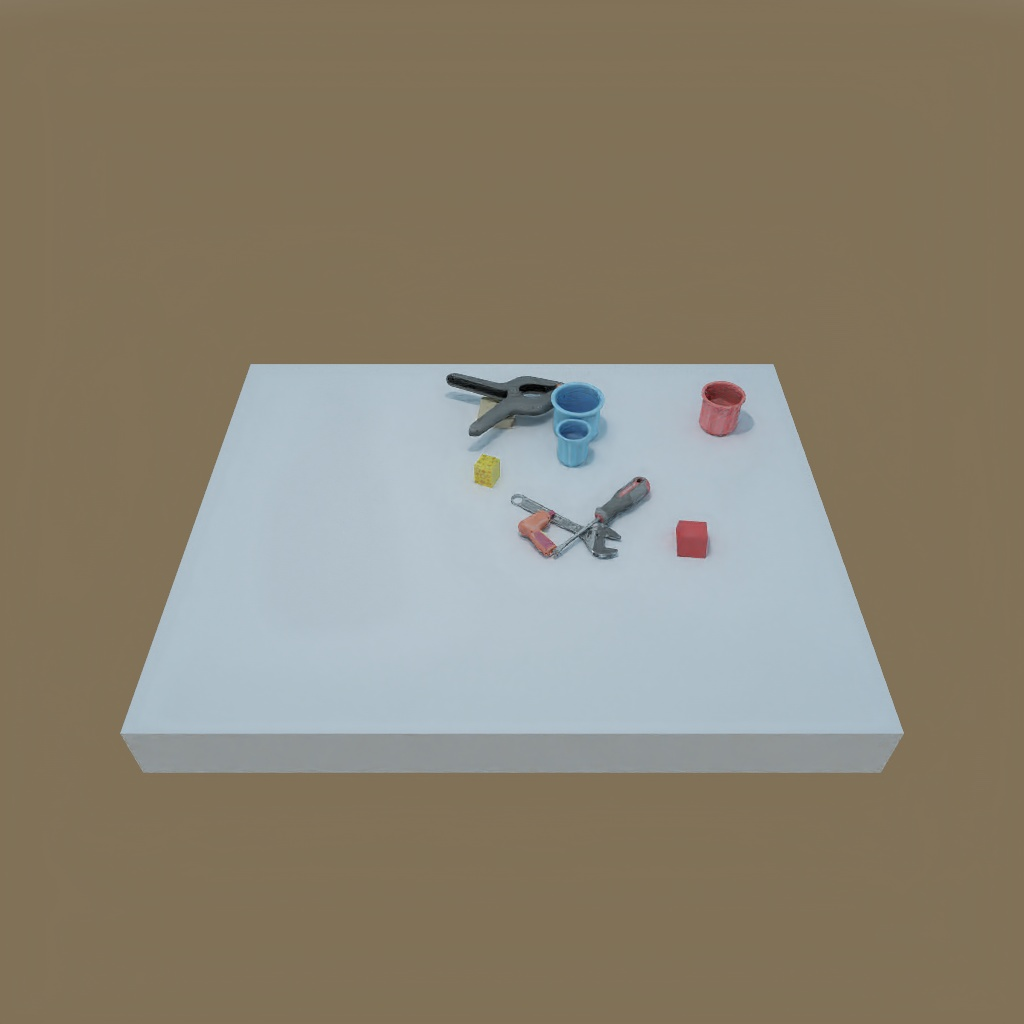nine_hole_peg_test: (476, 389, 522, 435)
